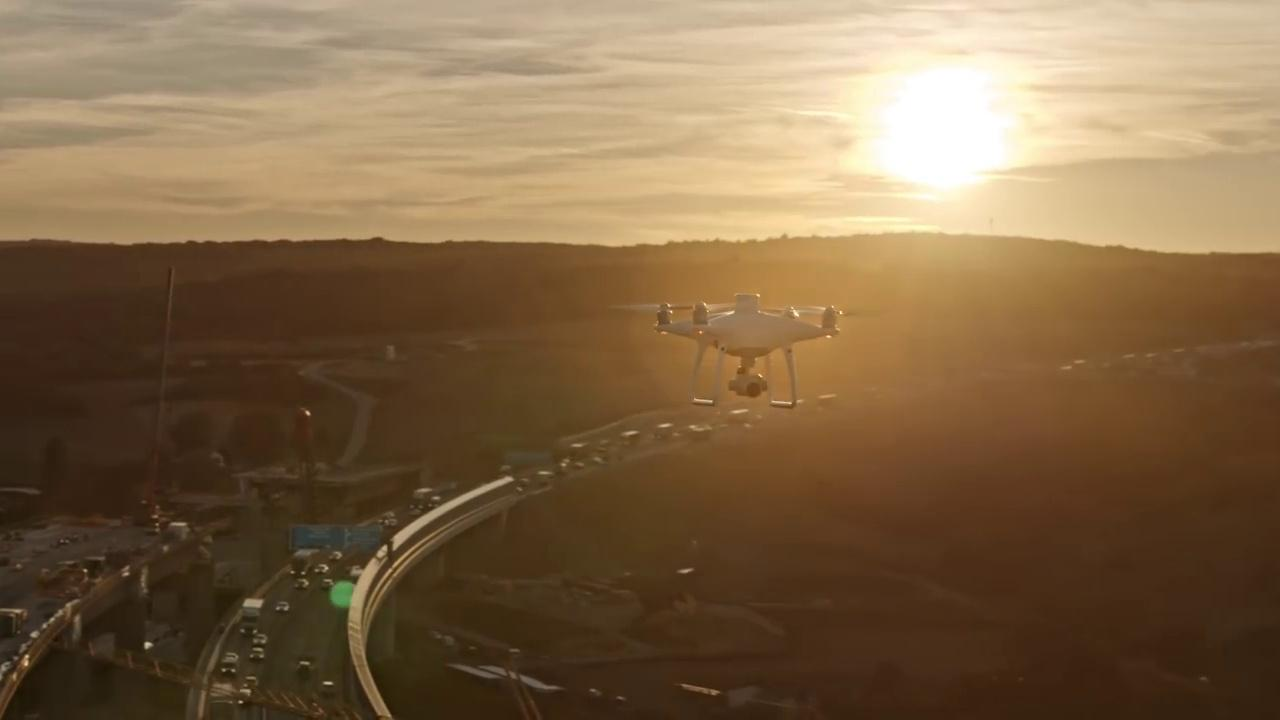drone: (615, 287, 859, 413)
